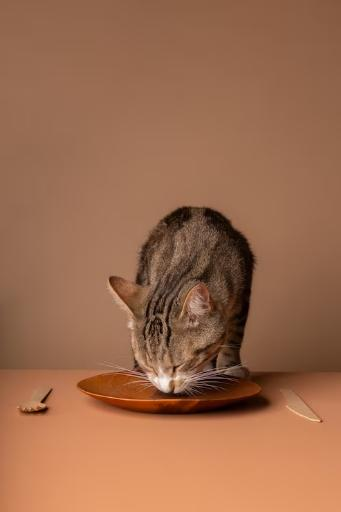cat_eating: (77, 207, 261, 413)
